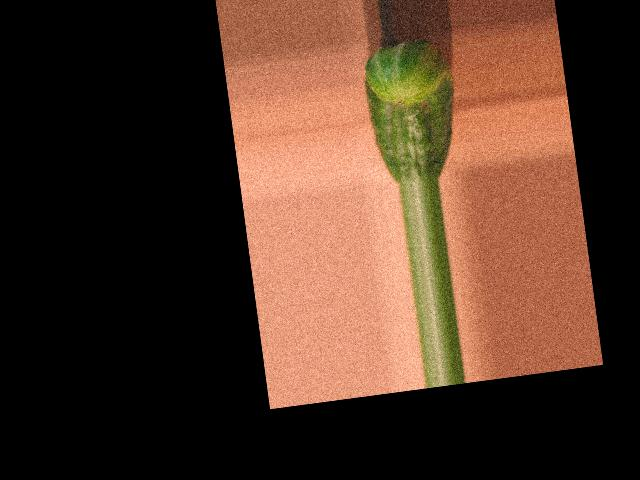cucumber: (359, 36, 465, 186)
